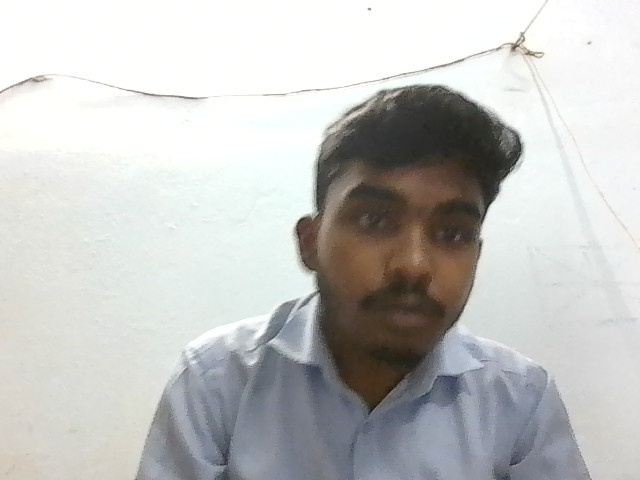real: (287, 59, 515, 382)
